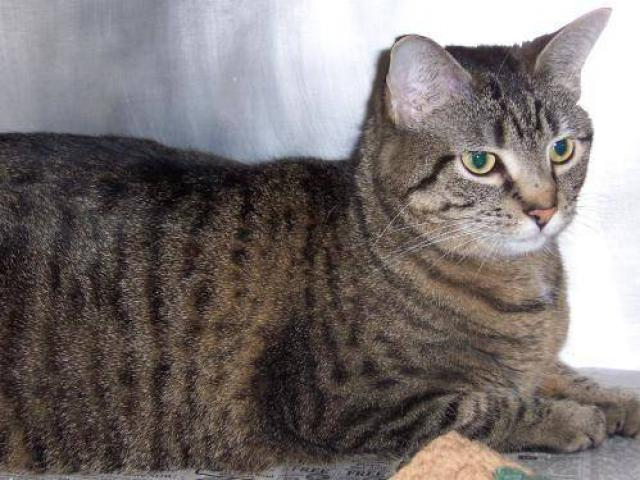cat: (1, 4, 637, 475)
